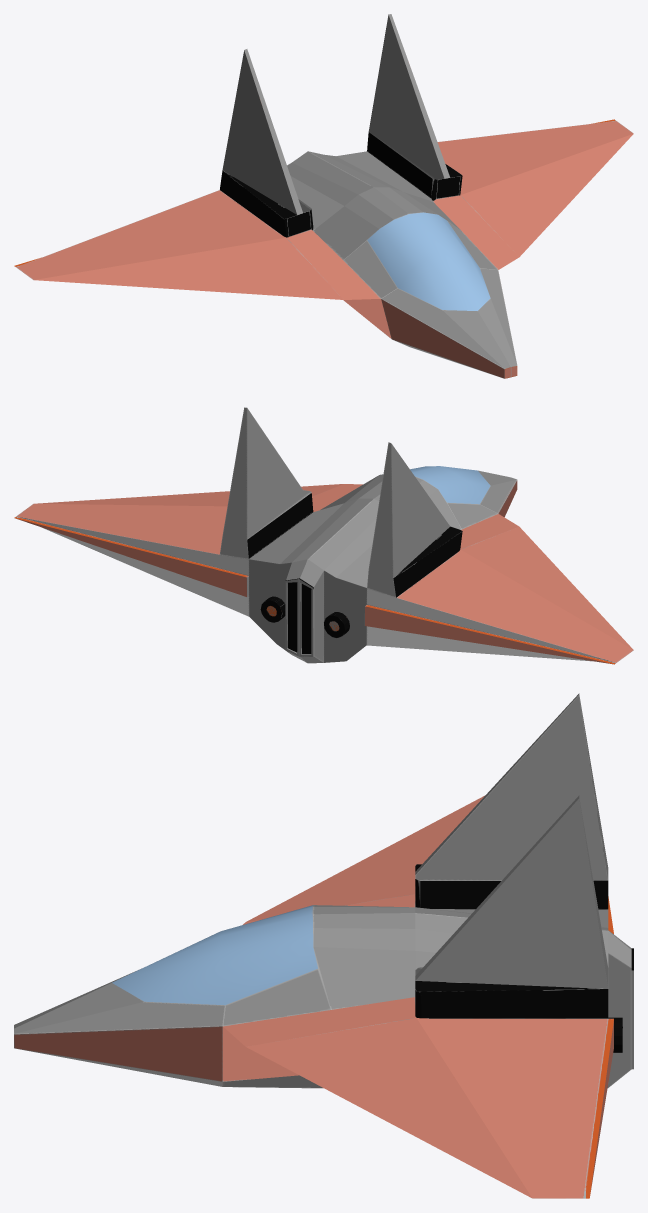
The model's file is LOWPOLYSPACESHIP_v1.glb.
The picture shows the model from 3 angles, top to bottom: view 1: azimuth 30°, elevation 25°; view 2: azimuth 150°, elevation 25°; view 3: azimuth 270°, elevation 25°; orthographic projection. The views are drawn at different scales.
Visible parts, largest first — view 1: Cube; view 2: Cube; view 3: Cube.
Boxes of the visible parts, left/top/right/bottom form: Cube: left=14, top=14, right=633, bottom=378; Cube: left=14, top=407, right=633, bottom=664; Cube: left=14, top=693, right=633, bottom=1198.
Bounding box in the file's own units: 10.23 × 3.79 × 6.26.
Materials: 1 (1 with a texture image).
